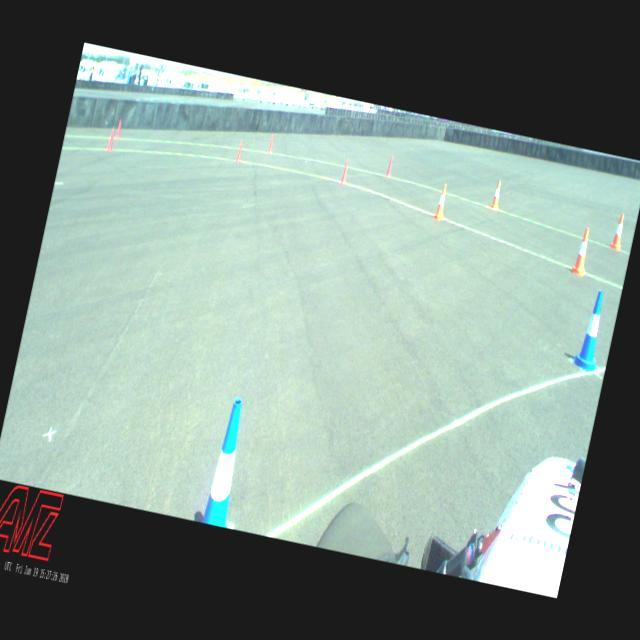blue_cone: (202, 397, 254, 528), (570, 287, 613, 373)
orange_cone: (570, 226, 594, 276), (610, 212, 628, 250), (434, 183, 449, 220), (490, 180, 503, 209)
unknown_cone: (105, 126, 116, 152), (340, 158, 350, 185), (235, 140, 244, 162), (385, 156, 394, 177), (115, 119, 123, 139), (266, 135, 274, 154)
